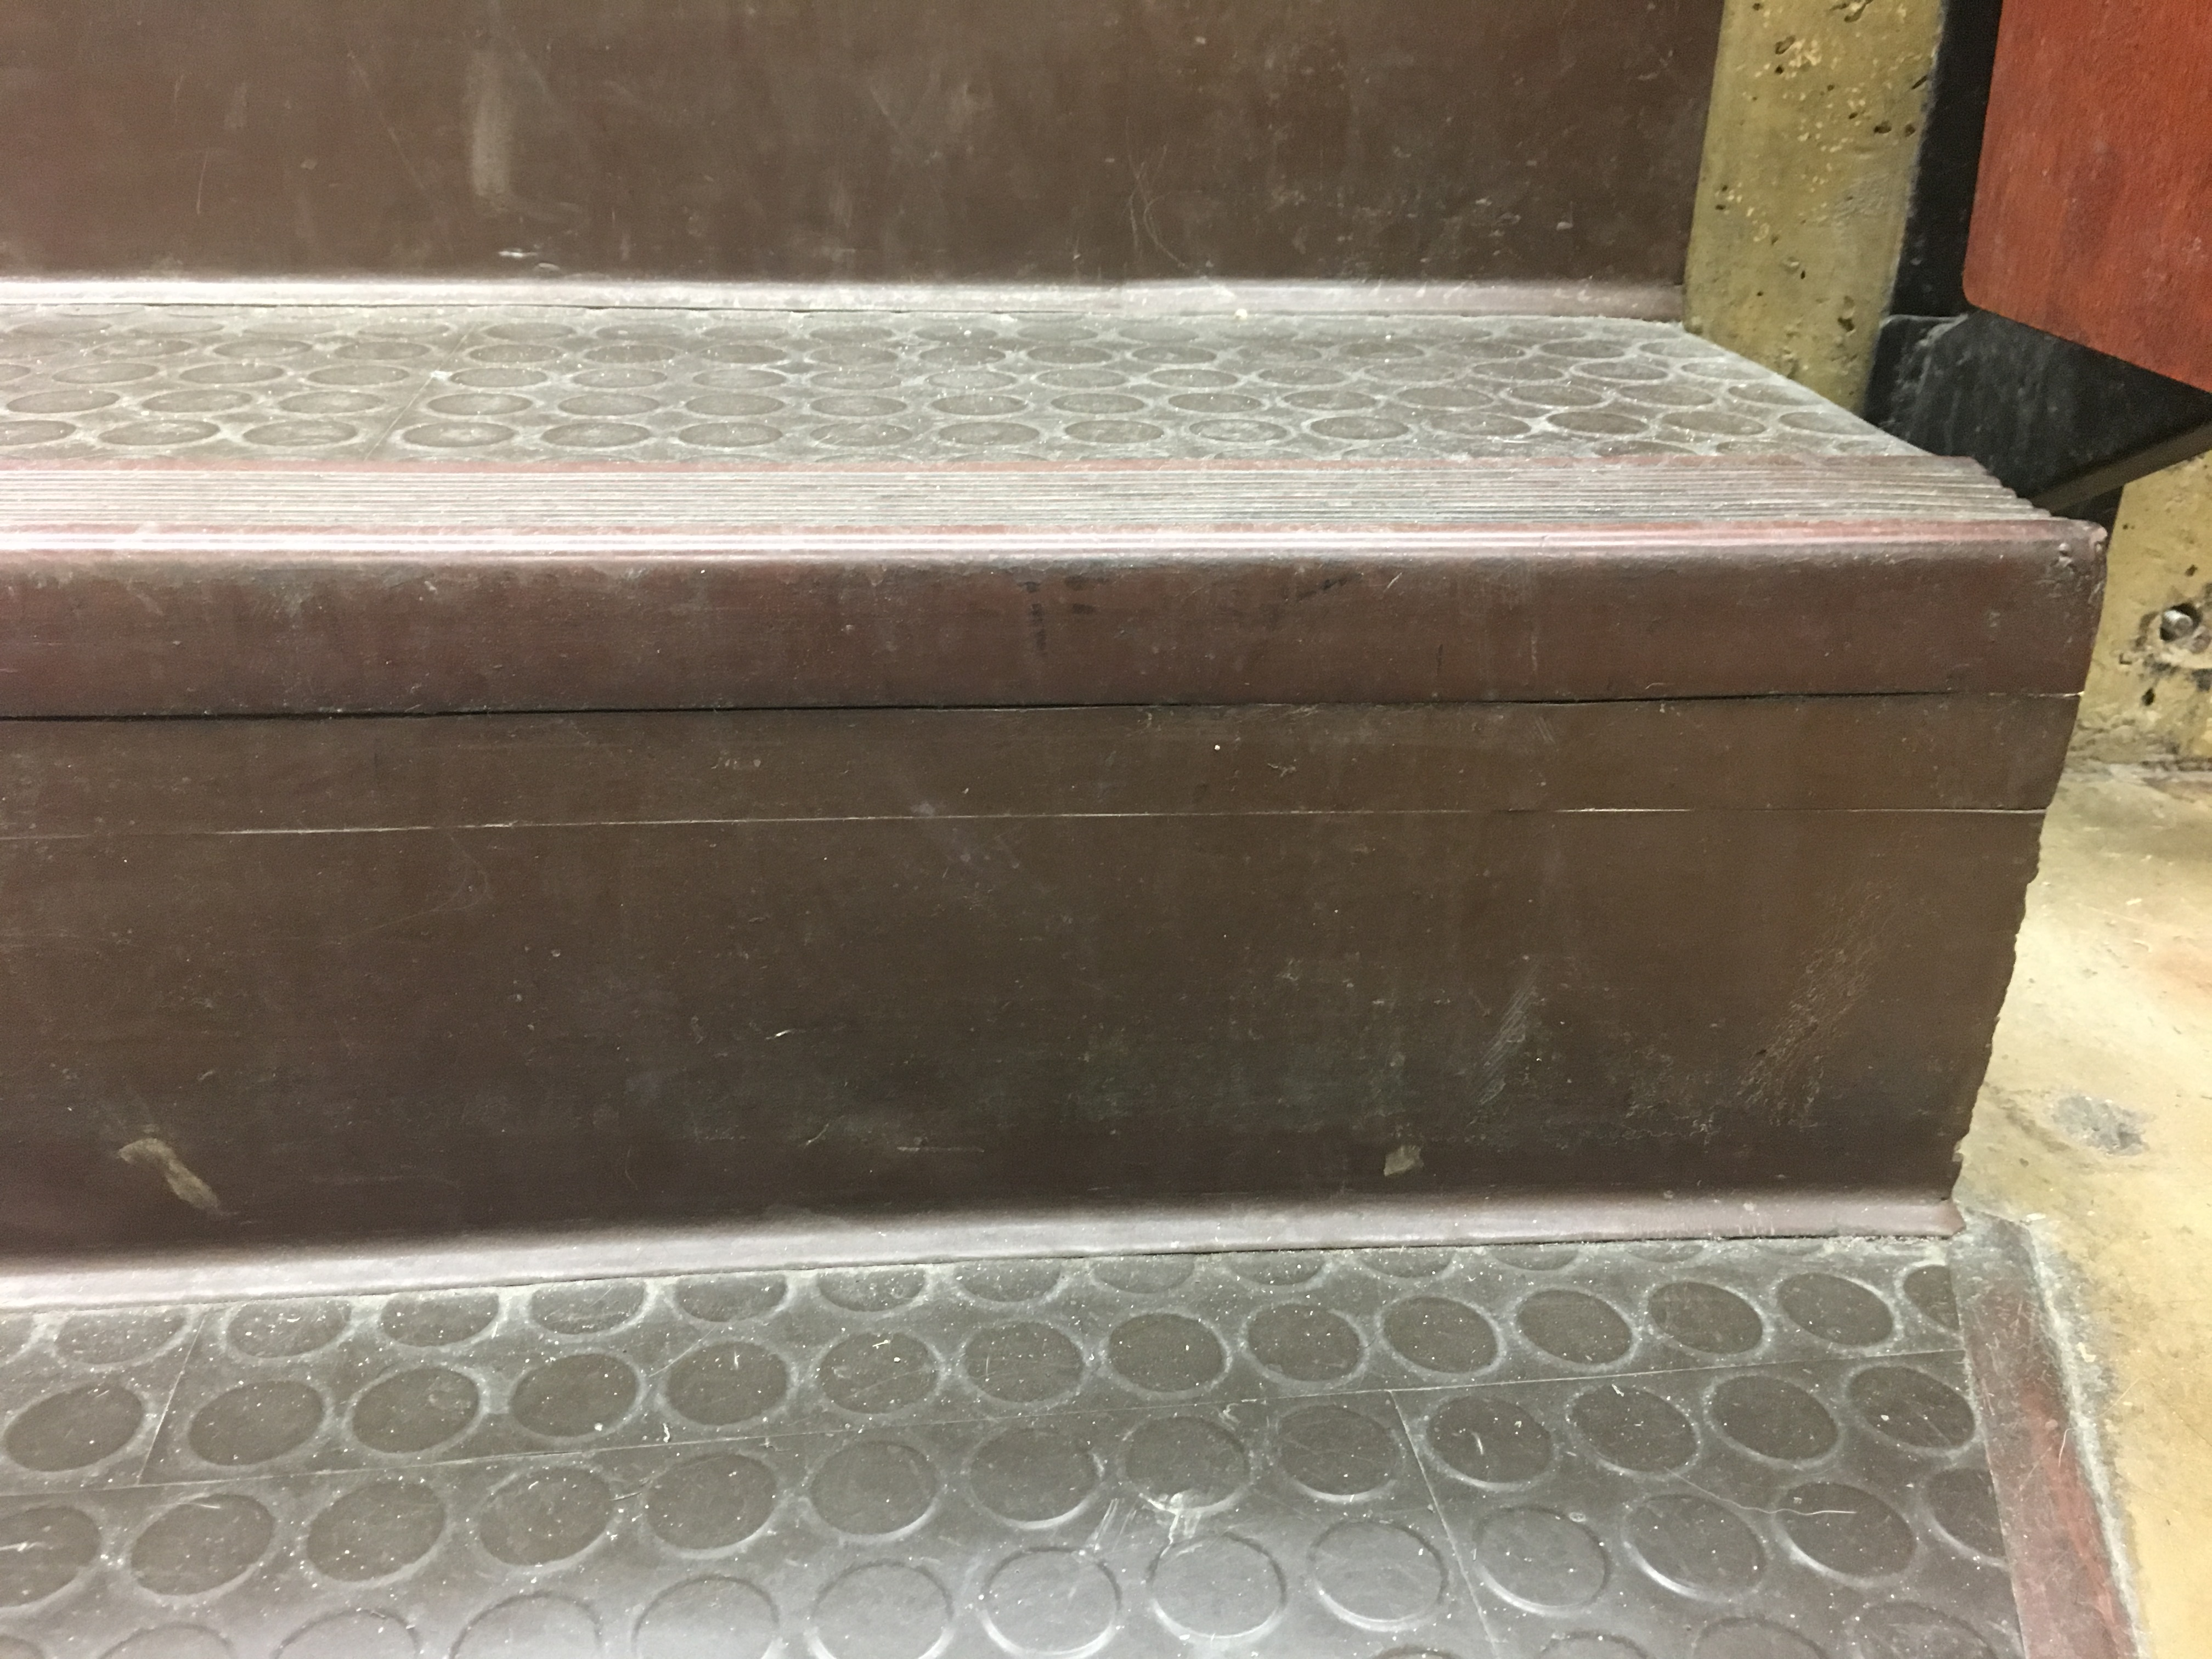Obstacle: (3, 296, 2121, 1286), (0, 5, 1686, 319)
